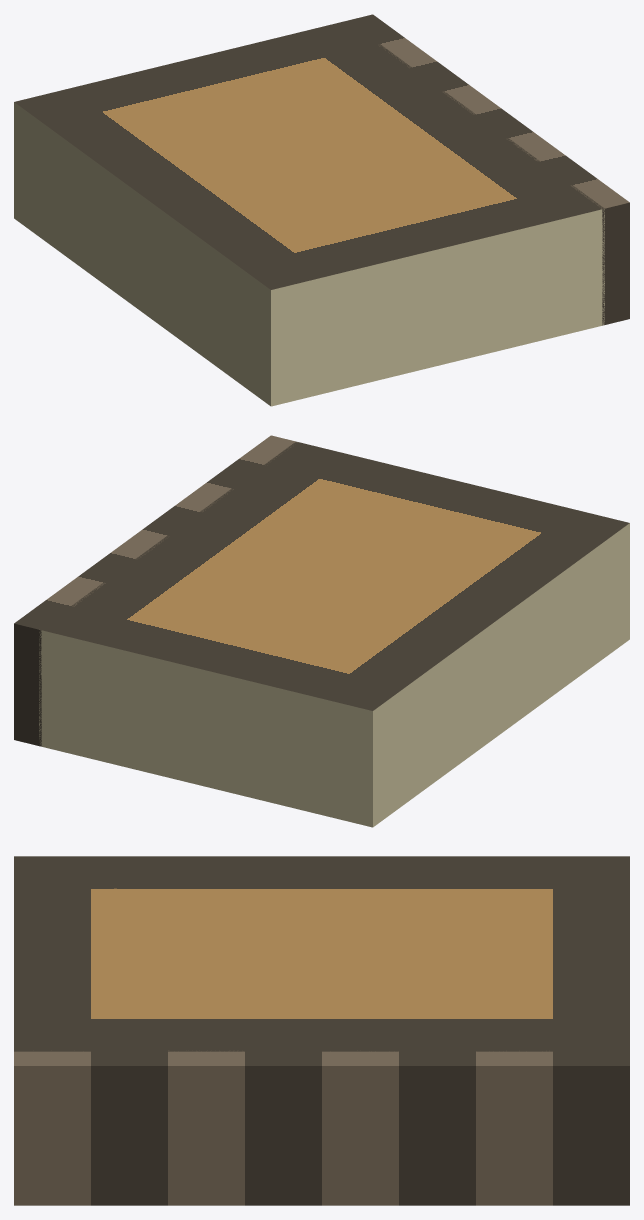
File: MainMenuBook.fbx
3 renders of one model, top to bottom at view 1: azimuth 30°, elevation 25°; view 2: azimuth 150°, elevation 25°; view 3: azimuth 270°, elevation 25°, orthographic. The views are drawn at different scales.
Visible parts, largest first — view 1: BookUpper, BookLower, Spine; view 2: BookUpper, BookLower, Spine; view 3: BookUpper, Spine.
Part boxes in pixels (x1,y1,x2,y2): BookUpper: [14, 20, 604, 348]; BookLower: [14, 160, 604, 406]; Spine: [347, 14, 629, 325]; BookUpper: [39, 441, 629, 769]; BookLower: [39, 581, 629, 827]; Spine: [14, 435, 297, 746]; BookUpper: [14, 856, 629, 1051]; Spine: [14, 1050, 629, 1205].
Size of the model in its own units: 40.31 by 12.5 by 50.
Materials: 1 (1 with a texture image).
